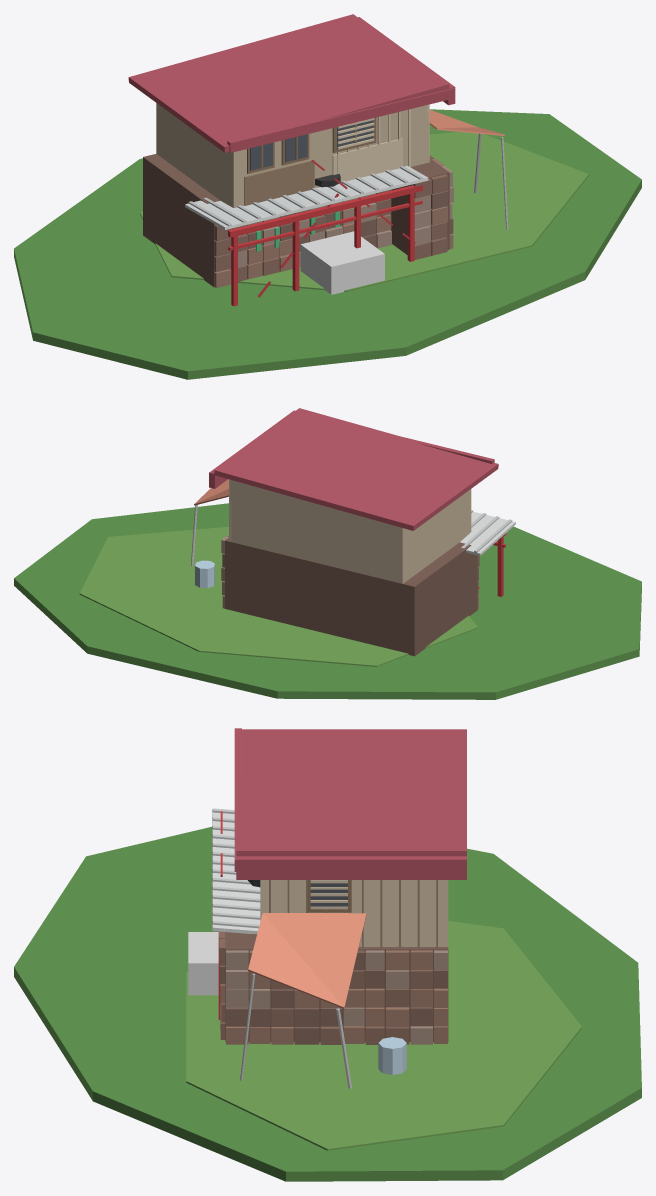
Rendered from House_01.fbx.
3 views of the same model, one above another, from view 1: azimuth 30°, elevation 25°; view 2: azimuth 150°, elevation 25°; view 3: azimuth 270°, elevation 25° (orthographic). The views are drawn at different scales.
Visible parts, largest first — view 1: Grass, Roof, Grass2, UpperBody, StoneCore, Cube, VerRoof, RoofFasciaF, FrontSillL, FrontSillR, VerBeamTop, StoneCoreEnd (+4 smaller); view 2: Grass, Roof, Grass2, StoneCore, UpperBody, VerRoof, Barrel; view 3: Grass, Grass2, Roof, Tarp, UpperEnd, RoofFasciaR, VerRoof, Cube, StoneCore, Barrel, StoneCoreEnd, RoofFasciaF (+1 smaller).
Boxes of the visible parts, x1,y1,x2,y2 form: Grass: (14,109,641,379); Roof: (128,14,449,152); Grass2: (140,132,589,291); UpperBody: (156,103,428,207); StoneCore: (143,153,220,287); Cube: (300,231,384,294); VerRoof: (185,166,428,229); RoofFasciaF: (227,88,455,152); FrontSillL: (244,160,314,205); FrontSillR: (332,138,402,182); VerBeamTop: (228,185,422,237); StoneCoreEnd: (390,158,449,254); Grass: (14,503,641,699); Roof: (214,408,498,530); Grass2: (79,526,477,666); StoneCore: (225,538,477,656); UpperBody: (229,479,471,583); VerRoof: (460,511,515,555); Barrel: (195,560,214,588); Grass: (14,827,641,1181); Grass2: (186,921,581,1150); Roof: (236,729,466,856); Tarp: (247,913,366,1008); UpperEnd: (262,880,448,946); RoofFasciaR: (236,856,466,879); VerRoof: (212,808,260,933); Cube: (188,932,218,995); StoneCore: (293,947,448,1042); Barrel: (378,1037,406,1074); StoneCoreEnd: (225,932,271,1042); RoofFasciaF: (234,728,241,871).
Bounding box in the file's own units: 2292 × 680 × 1690.
